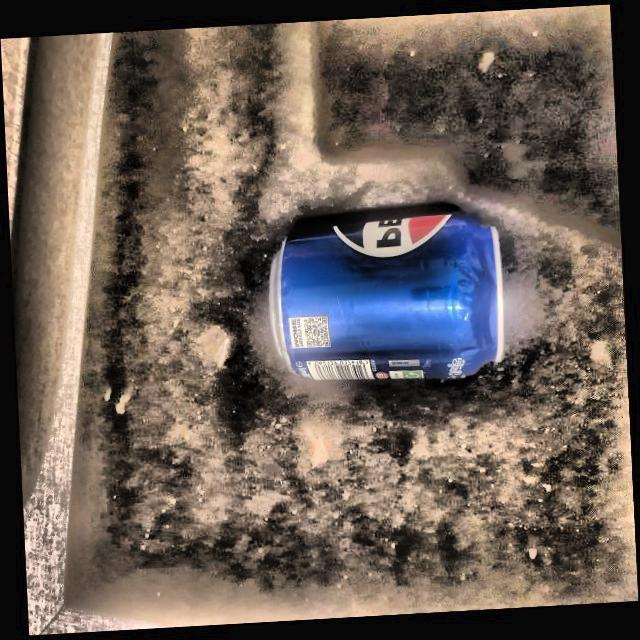pepsi-can: (266, 209, 512, 390)
